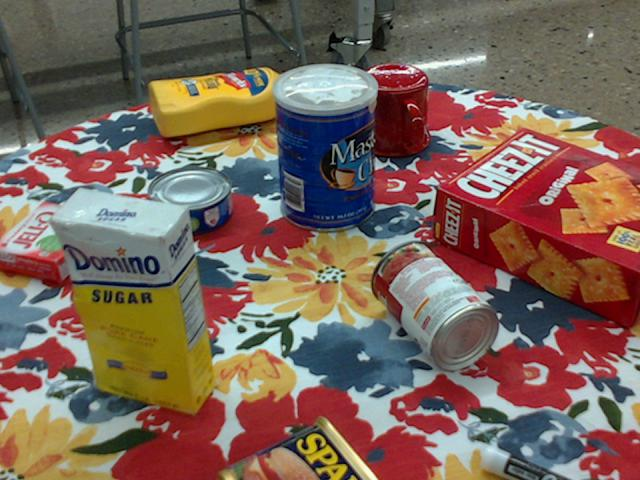cracker_box: (433, 128, 639, 329)
gelatin_box: (0, 204, 109, 285)
large_marker: (482, 444, 574, 479)
master_chef_can: (273, 63, 378, 232)
mug: (352, 64, 430, 158)
mustard_bottle: (146, 68, 306, 136)
potted_meat_can: (217, 415, 381, 479)
sugar_box: (48, 186, 216, 415)
tomato_soup_can: (370, 241, 501, 370)
tuna_fish_can: (145, 167, 231, 235)
